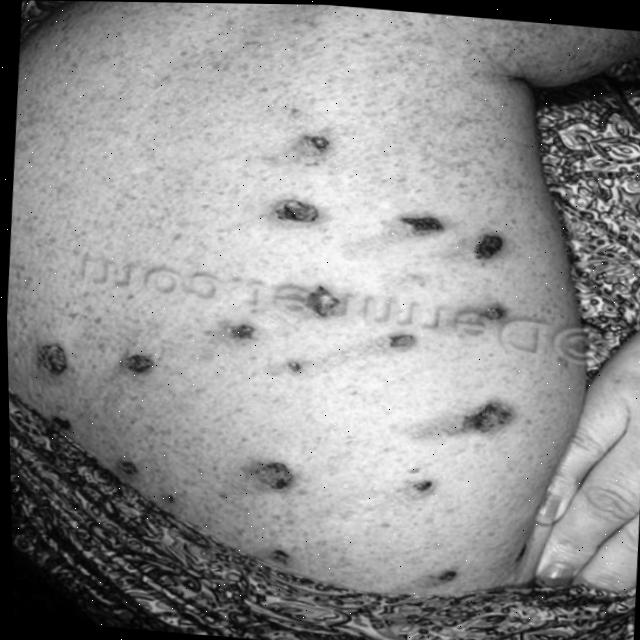Eczema: (2, 92, 534, 604)
